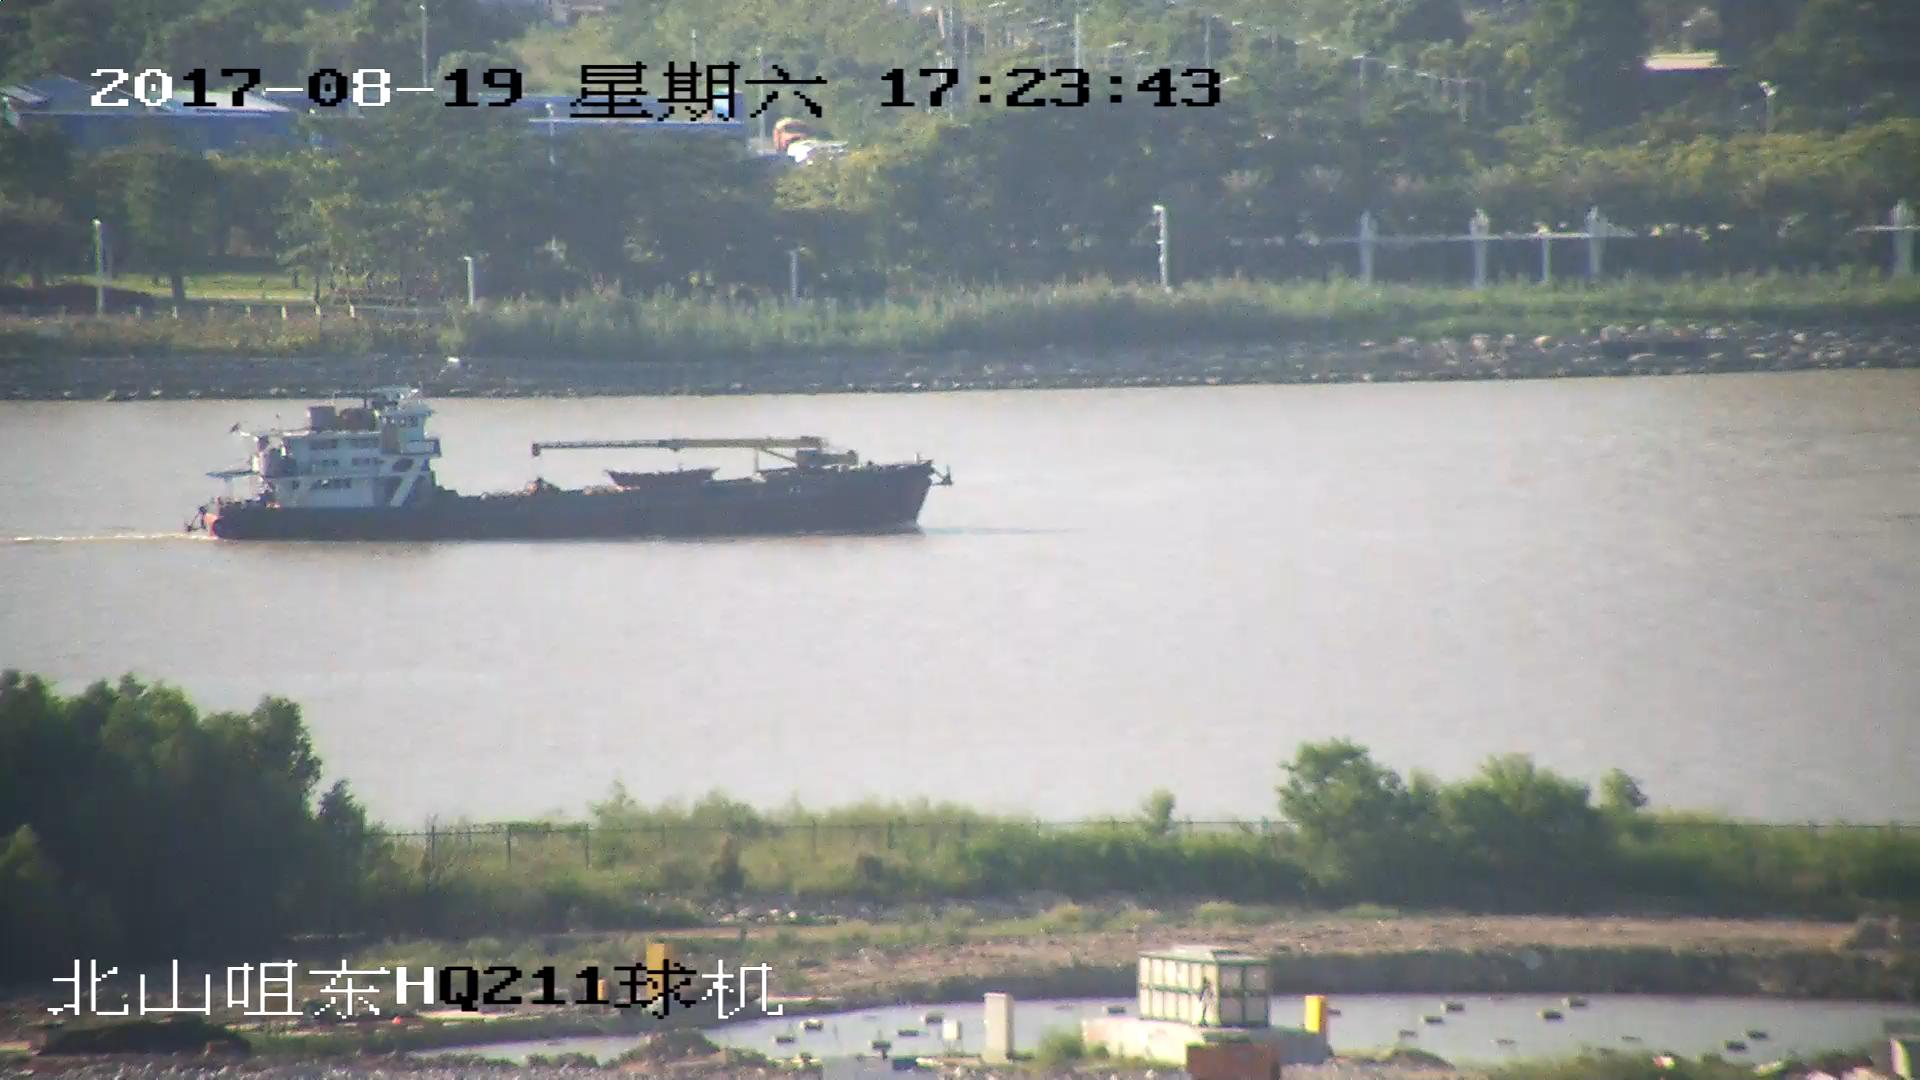bulk cargo carrier: (196, 395, 959, 540)
